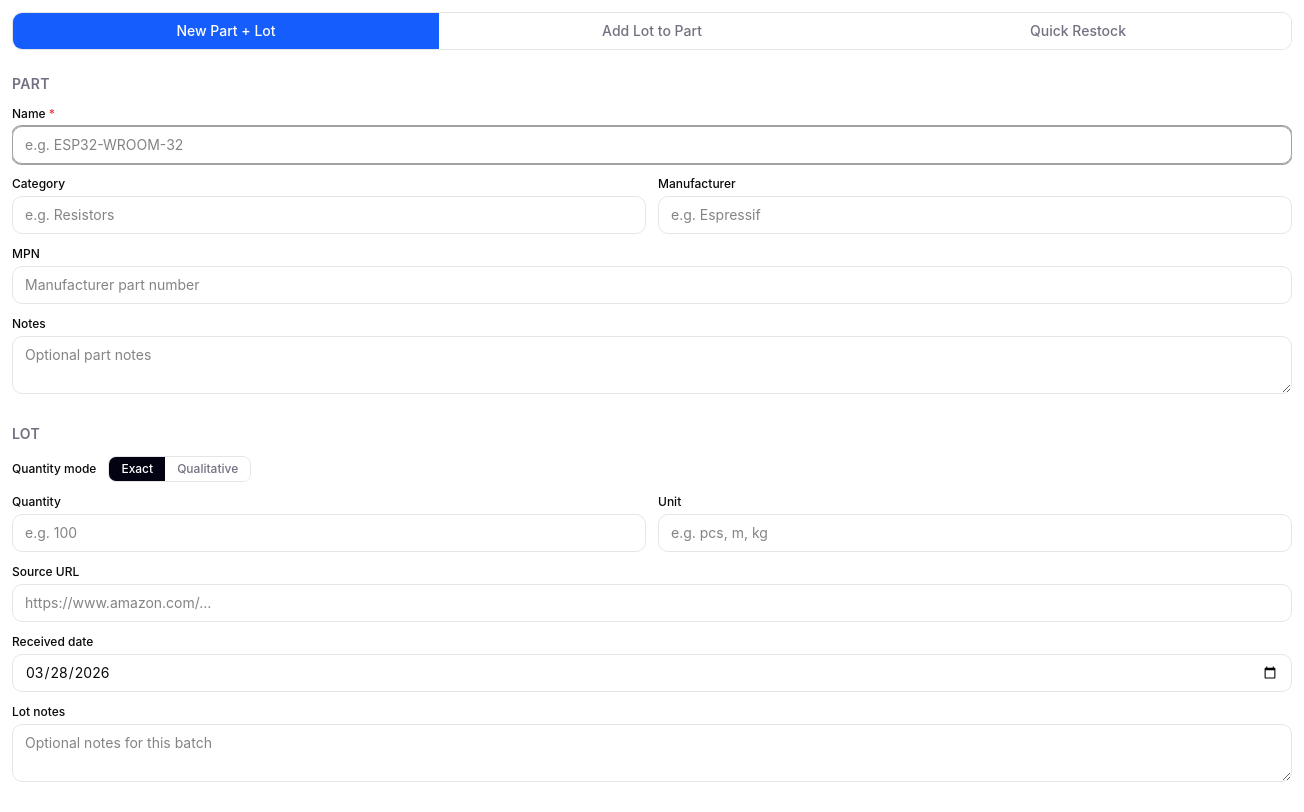
IntakeForm – label/input accessibility associations › lot form fields › hides lot-notes when quick-restock mode is active
Click the button "Quick Restock".
click(1078, 31)  # box x1=865 y1=13 x2=1291 y2=49
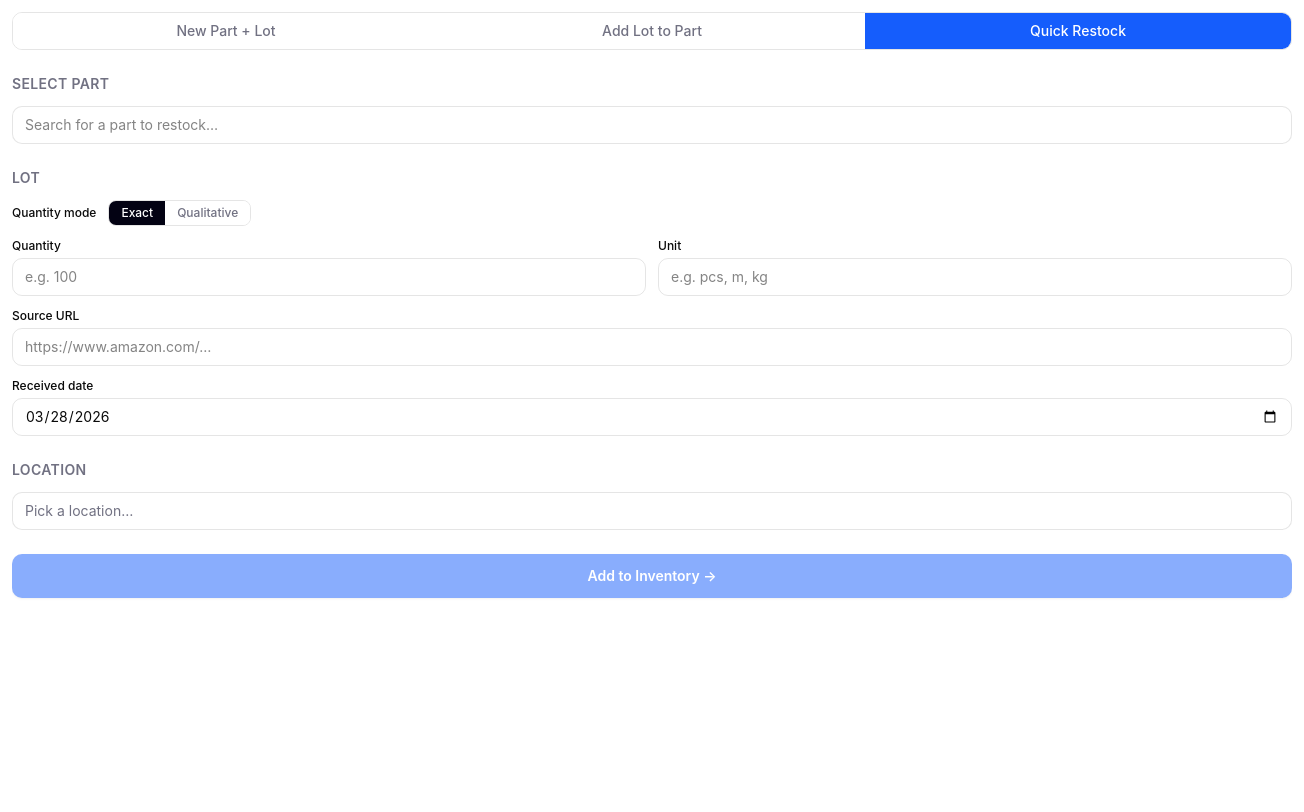
Expected: the label with id "lot-notes" is gone
